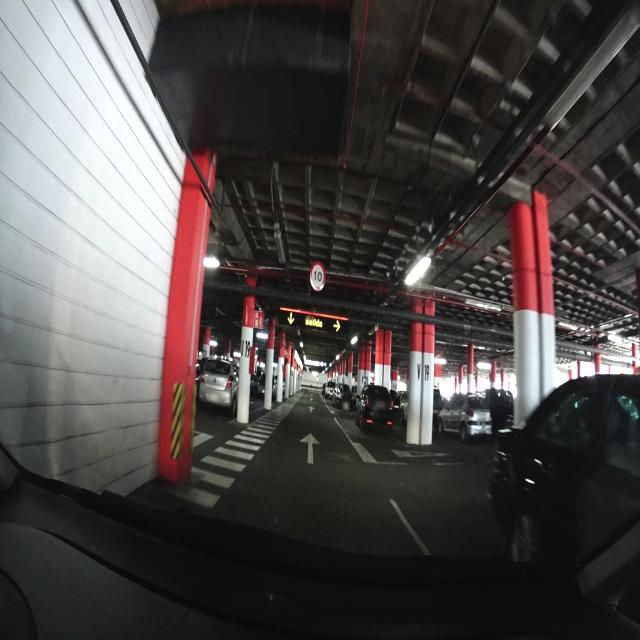car: (490, 370, 640, 576), (438, 392, 493, 444), (197, 355, 239, 419), (354, 383, 394, 434), (479, 388, 514, 431), (432, 388, 444, 429), (334, 383, 351, 405), (249, 373, 263, 396), (390, 389, 402, 415), (324, 382, 336, 399)
